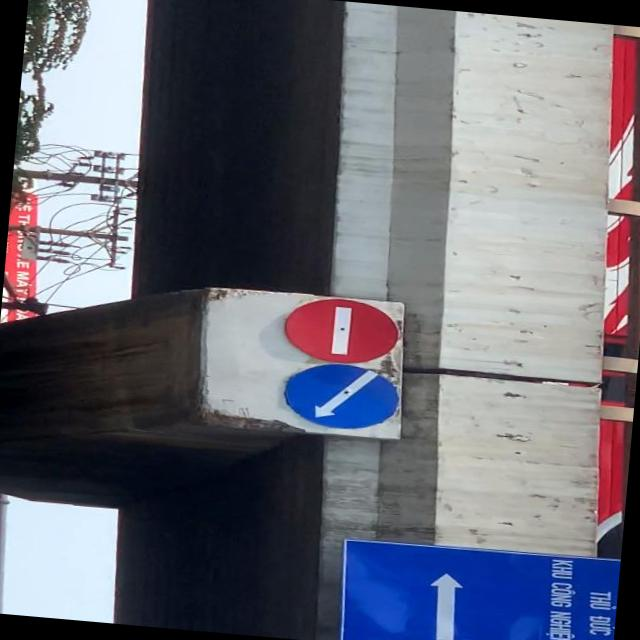P-102: (281, 296, 401, 366)
R-302a: (278, 357, 402, 432)
